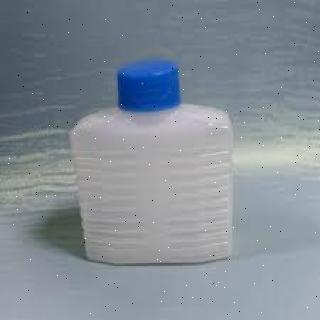Plastic-bottle: (68, 58, 240, 267)
